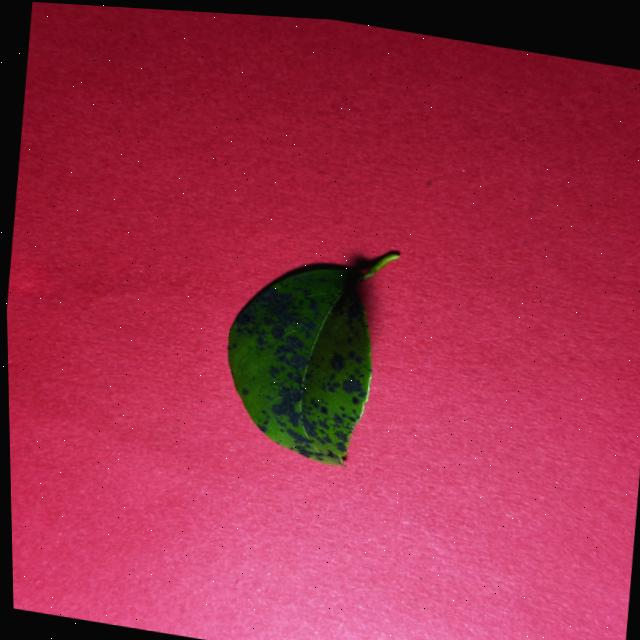sooty_mold: (228, 254, 394, 465)
